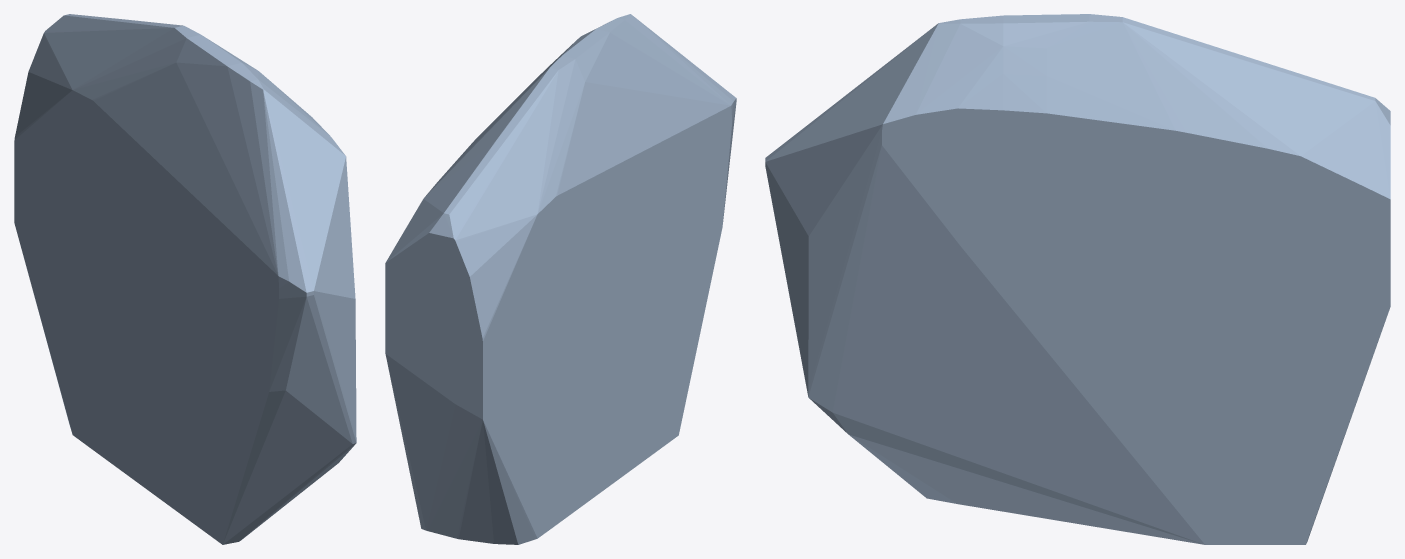
3 views of the same model, side by side, from view 1: azimuth 30°, elevation 25°; view 2: azimuth 150°, elevation 25°; view 3: azimuth 270°, elevation 25° (orthographic). The views are drawn at different scales.
Size of the model in its own units: 0.00987 by 0.0405 by 0.0463.
